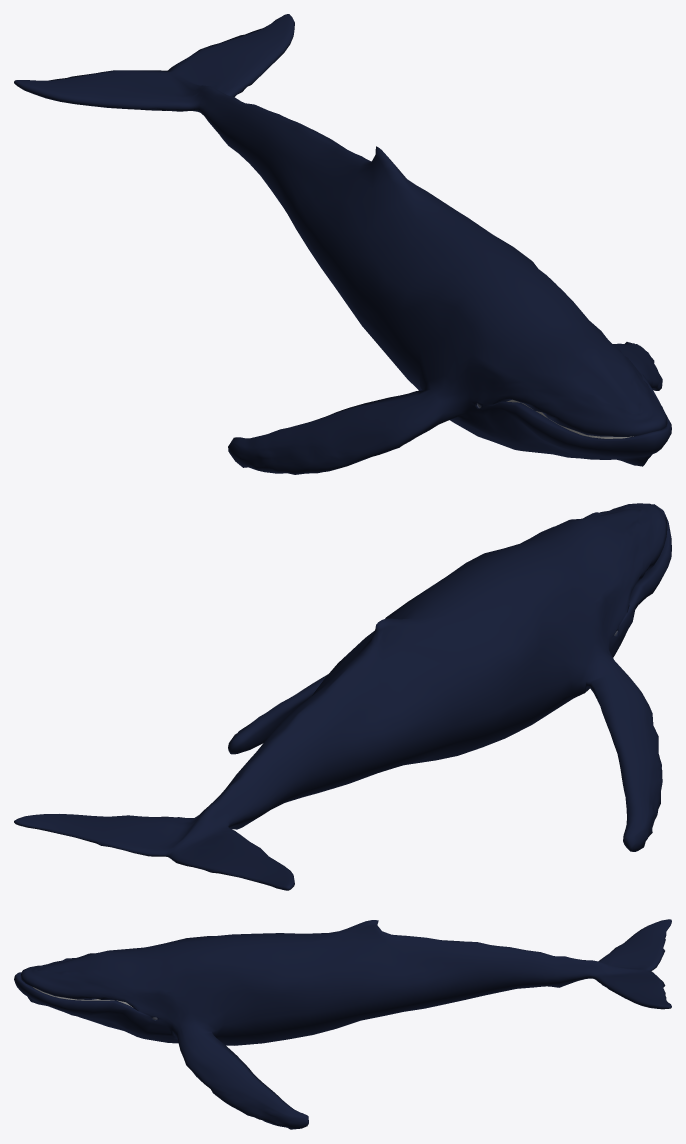
File: whale_animation08.obj
3 renders of one model, top to bottom at view 1: azimuth 30°, elevation 25°; view 2: azimuth 150°, elevation 25°; view 3: azimuth 270°, elevation 25°, orthographic. The views are drawn at different scales.
Visible parts, largest first — view 1: Whale; view 2: Whale; view 3: Whale.
Boxes of the visible parts, <box> form: Whale: <box>14,14,671,474</box>; Whale: <box>14,503,671,890</box>; Whale: <box>14,919,671,1129</box>.
Bounding box in the file's own units: 8.92 × 4.66 × 19.04.
